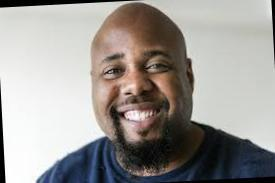Sober: (93, 22, 186, 142)
